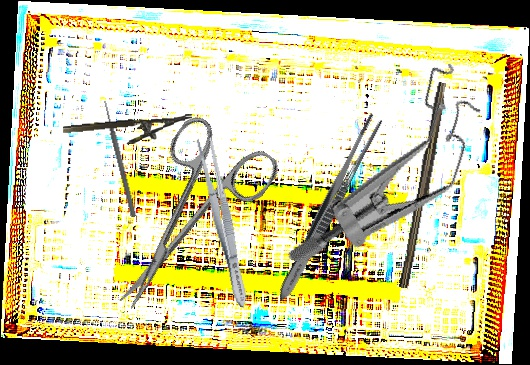Dressing Forceps: (272, 109, 386, 306), (192, 133, 254, 311)
Iris Scissors: (79, 104, 284, 334)
Needle Holder: (62, 113, 195, 151)
Pusher: (101, 100, 138, 218)
Scalpel Handle: (398, 81, 451, 290)
Speculum: (285, 34, 494, 302)
